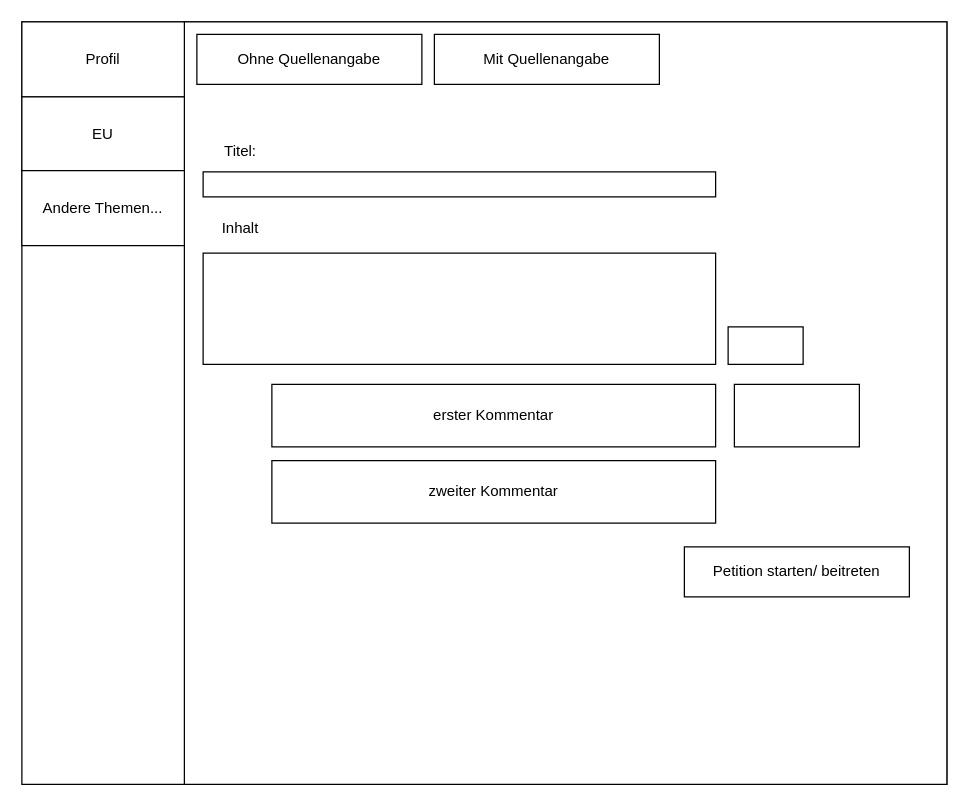
Image size: 969x806. Some labels were removed from this diagram. Here are the shapes that lost their labels. From the top down, the centre of each, then its label:
At point (765, 345): "Posten".
At point (796, 415): "Kommentare anzeigen (10)".
